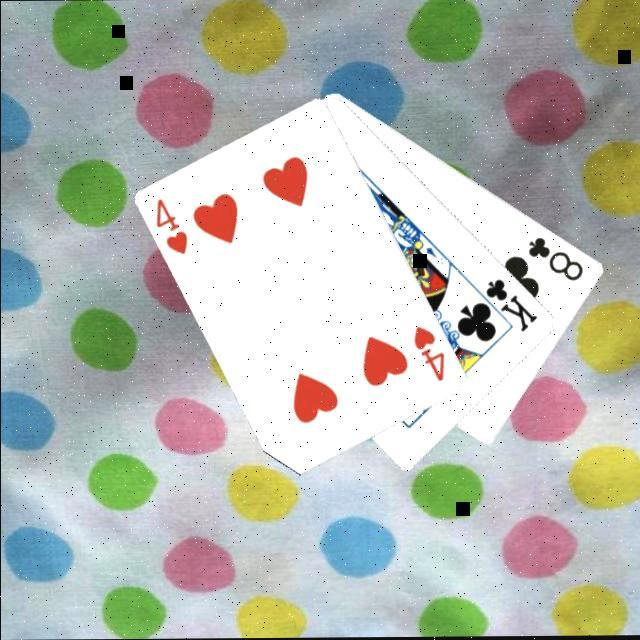4H: (154, 197, 192, 260), (412, 324, 450, 386)
8C: (526, 235, 588, 286)
KC: (471, 277, 542, 337)
